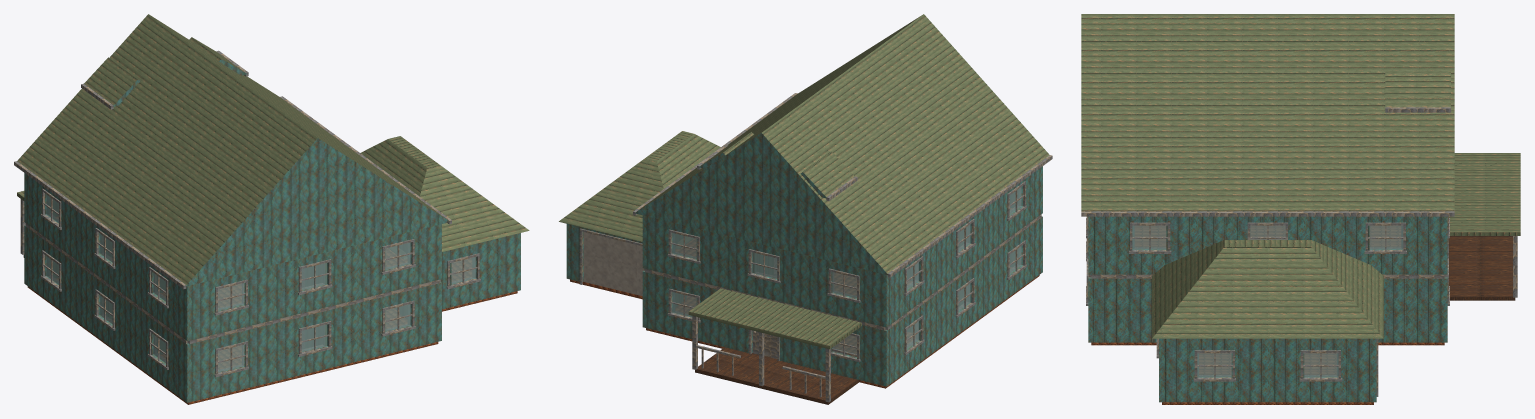
Rendered from rowan-family.gltf.
The picture shows the model from 3 angles, left to right: view 1: azimuth 30°, elevation 25°; view 2: azimuth 150°, elevation 25°; view 3: azimuth 270°, elevation 25°; orthographic projection. The views are drawn at different scales.
Parts seen in each view (by area): view 1: roof-L1-slate, exterior-L0-cream-siding, exterior-L1-cream-siding, roof-L1-cream-siding, roof-L0-slate, trim-L0-dark-wood, trim-L1-dark-wood, glazing-L0-glass, glazing-L1-glass, roof-L1-dark-wood, floor-L0-floor, exterior-L0-dark-wood (+3 smaller); view 2: roof-L1-slate, exterior-L1-cream-siding, exterior-L0-cream-siding, roof-L1-cream-siding, roof-L0-slate, porch-L0-slate, porch-L0-stone, door-leaf-L0-blue-metal, trim-L1-dark-wood, trim-L0-dark-wood, glazing-L1-glass, roof-L1-dark-wood (+6 smaller); view 3: roof-L1-slate, roof-L0-slate, exterior-L0-cream-siding, exterior-L1-cream-siding, porch-L0-slate, porch-L0-stone, roof-L1-dark-wood, floor-L0-floor, glazing-L1-glass, trim-L0-dark-wood, trim-L1-dark-wood, glazing-L0-glass (+2 smaller).
Part boxes in pixels (<box>): roof-L1-slate: <box>17,14,446,284</box>; exterior-L0-cream-siding: <box>24,225,520,402</box>; exterior-L1-cream-siding: <box>24,173,441,341</box>; roof-L1-cream-siding: <box>113,59,449,286</box>; roof-L0-slate: <box>360,136,529,258</box>; trim-L0-dark-wood: <box>40,250,480,377</box>; trim-L1-dark-wood: <box>40,188,415,315</box>; glazing-L0-glass: <box>46,256,475,372</box>; glazing-L1-glass: <box>46,194,410,310</box>; roof-L1-dark-wood: <box>14,50,451,289</box>; floor-L0-floor: <box>27,259,517,404</box>; exterior-L0-dark-wood: <box>25,223,440,344</box>; roof-L1-slate: <box>638,14,1049,273</box>; exterior-L1-cream-siding: <box>642,166,1042,327</box>; exterior-L0-cream-siding: <box>566,216,1042,386</box>; roof-L1-cream-siding: <box>635,133,888,275</box>; roof-L0-slate: <box>559,131,720,248</box>; porch-L0-slate: <box>688,288,861,349</box>; porch-L0-stone: <box>695,347,858,404</box>; door-leaf-L0-blue-metal: <box>583,232,643,296</box>; trim-L1-dark-wood: <box>667,181,1026,302</box>; trim-L0-dark-wood: <box>579,228,1026,362</box>; glazing-L1-glass: <box>672,187,1021,298</box>; roof-L1-dark-wood: <box>633,93,1052,277</box>; roof-L1-slate: <box>1081,14,1454,211</box>; roof-L0-slate: <box>1152,240,1383,338</box>; exterior-L0-cream-siding: <box>1088,277,1447,402</box>; exterior-L1-cream-siding: <box>1088,216,1447,274</box>; porch-L0-slate: <box>1449,153,1520,235</box>; porch-L0-stone: <box>1449,236,1515,300</box>; roof-L1-dark-wood: <box>1081,107,1454,216</box>; floor-L0-floor: <box>1091,342,1444,404</box>; glazing-L1-glass: <box>1132,225,1403,249</box>; trim-L0-dark-wood: <box>1086,238,1449,396</box>; trim-L1-dark-wood: <box>1086,216,1449,253</box>; glazing-L0-glass: <box>1197,353,1338,377</box>.
Bounding box in the file's own units: 13.61 × 8.25 × 12.43.
Materials: 12 (11 with a texture image).
